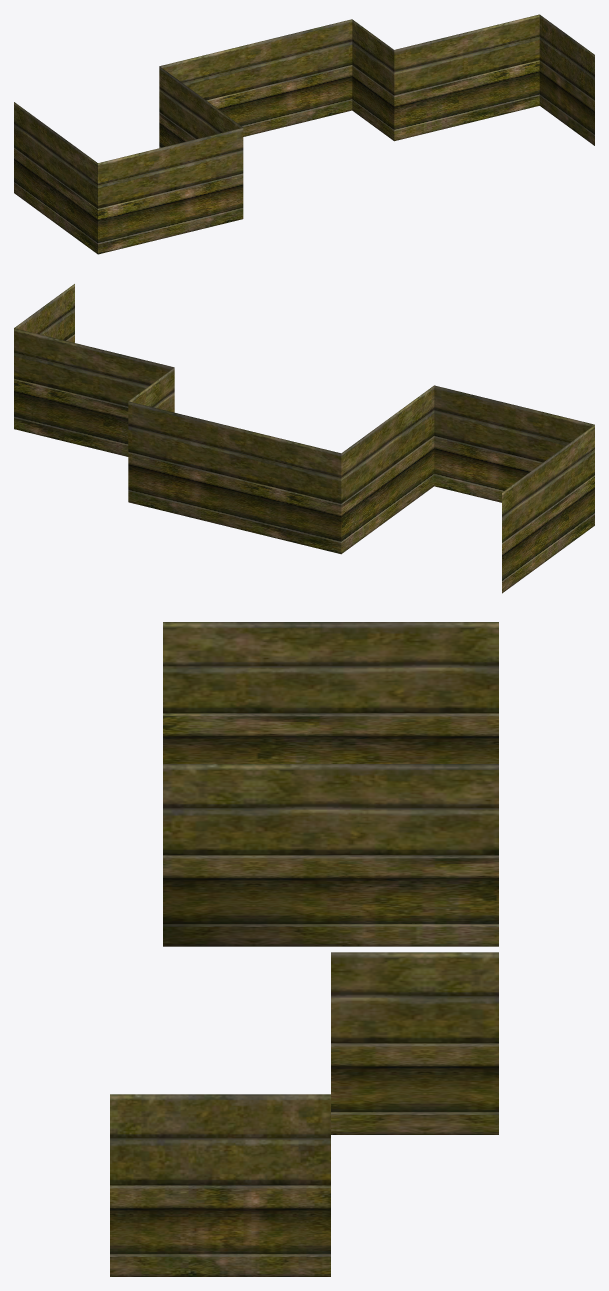
The model's file is OVERHILL_A_01_LINE164.fbx.
3 views of the same model, one above another, from view 1: azimuth 30°, elevation 25°; view 2: azimuth 150°, elevation 25°; view 3: azimuth 270°, elevation 25° (orthographic). The views are drawn at different scales.
Parts seen in each view (by area): view 1: OVERHILL_A_01_LINE164; view 2: OVERHILL_A_01_LINE164; view 3: OVERHILL_A_01_LINE164.
Part boxes in pixels (x1,y1,x2,y2): OVERHILL_A_01_LINE164: [14, 14, 594, 254]; OVERHILL_A_01_LINE164: [14, 284, 594, 593]; OVERHILL_A_01_LINE164: [110, 622, 498, 1276].
Size of the model in its own units: 66493 by 12000 by 23165.
2 materials, 2 textured.
